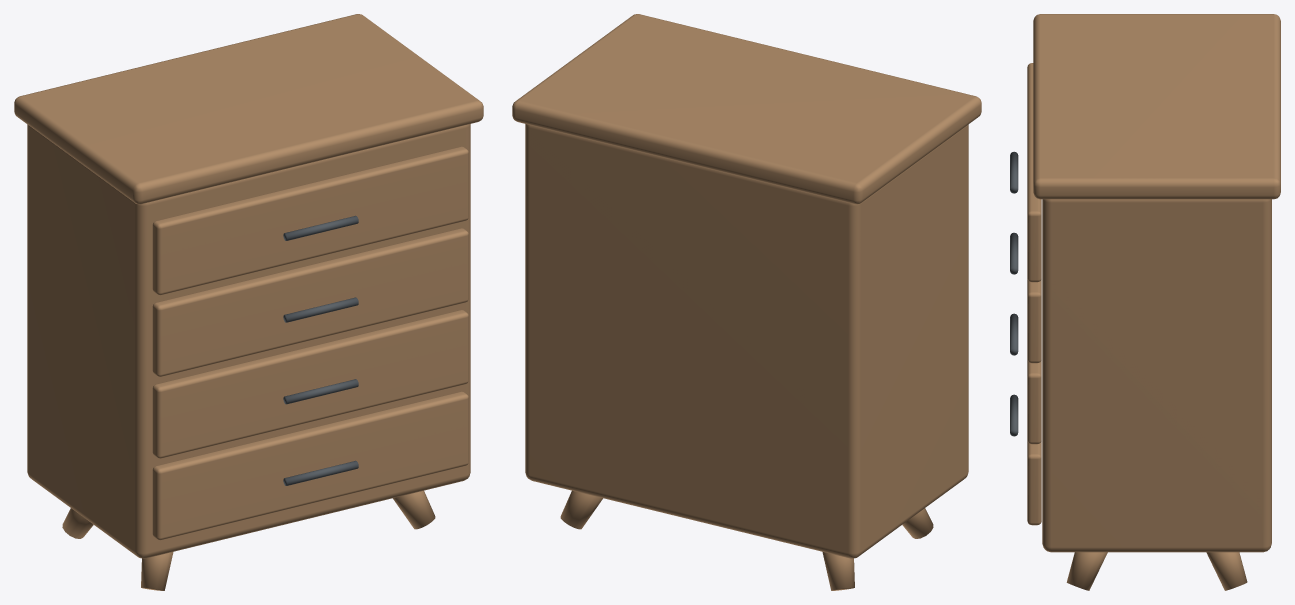
File: atelier-filing-cabinet.glb
3 renders of one model, left to right at view 1: azimuth 30°, elevation 25°; view 2: azimuth 150°, elevation 25°; view 3: azimuth 270°, elevation 25°, orthographic.
Visible parts, largest first — view 1: legs.092, metal.036; view 2: legs.092; view 3: legs.092, metal.036.
Part boxes in pixels (x1=…): legs.092: x1=14, y1=14, x2=483, y2=590; metal.036: x1=283, y1=215, x2=358, y2=485; legs.092: x1=512, y1=14, x2=981, y2=590; legs.092: x1=1027, y1=14, x2=1280, y2=590; metal.036: x1=1010, y1=151, x2=1018, y2=436.
Size of the model in its own units: 0.785 by 0.9293 by 0.5305.
